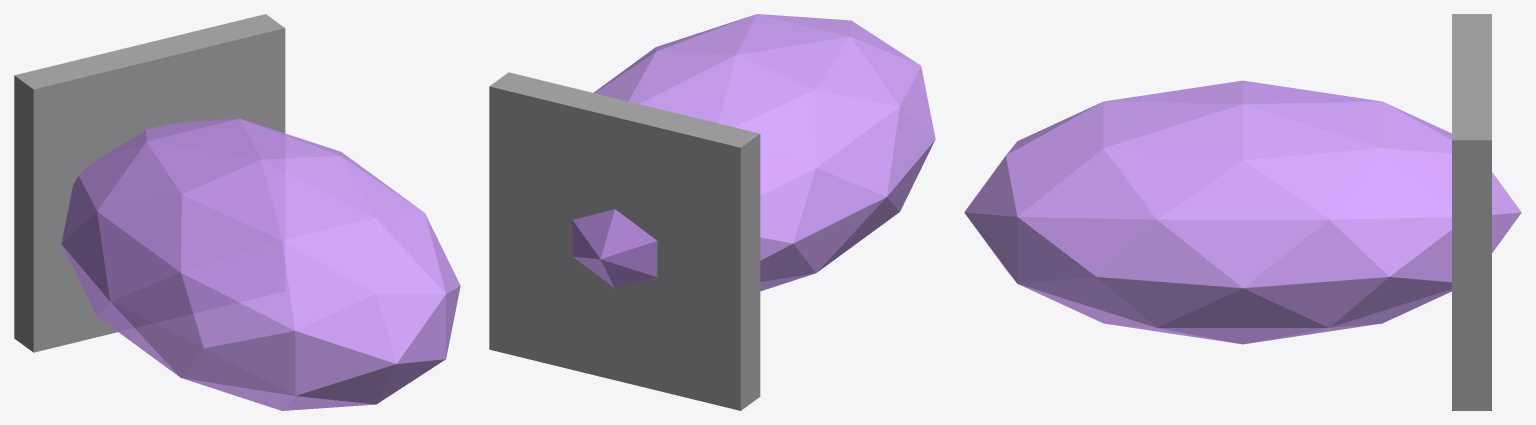
Rendered from quest_relic_fragment.glb.
The picture shows the model from 3 angles, left to right: view 1: azimuth 30°, elevation 25°; view 2: azimuth 150°, elevation 25°; view 3: azimuth 270°, elevation 25°; orthographic projection. The views are drawn at different scales.
Visible parts, largest first — view 1: fragment, base; view 2: base, fragment; view 3: fragment, base.
Boxes of the visible parts, <box> form: fragment: <box>61,118,460,410</box>; base: <box>14,14,285,352</box>; base: <box>489,72,760,410</box>; fragment: <box>572,14,935,291</box>; fragment: <box>964,80,1521,344</box>; base: <box>1452,14,1491,410</box>.
Bounding box in the file's own units: 0.72 × 0.6 × 1.12.
